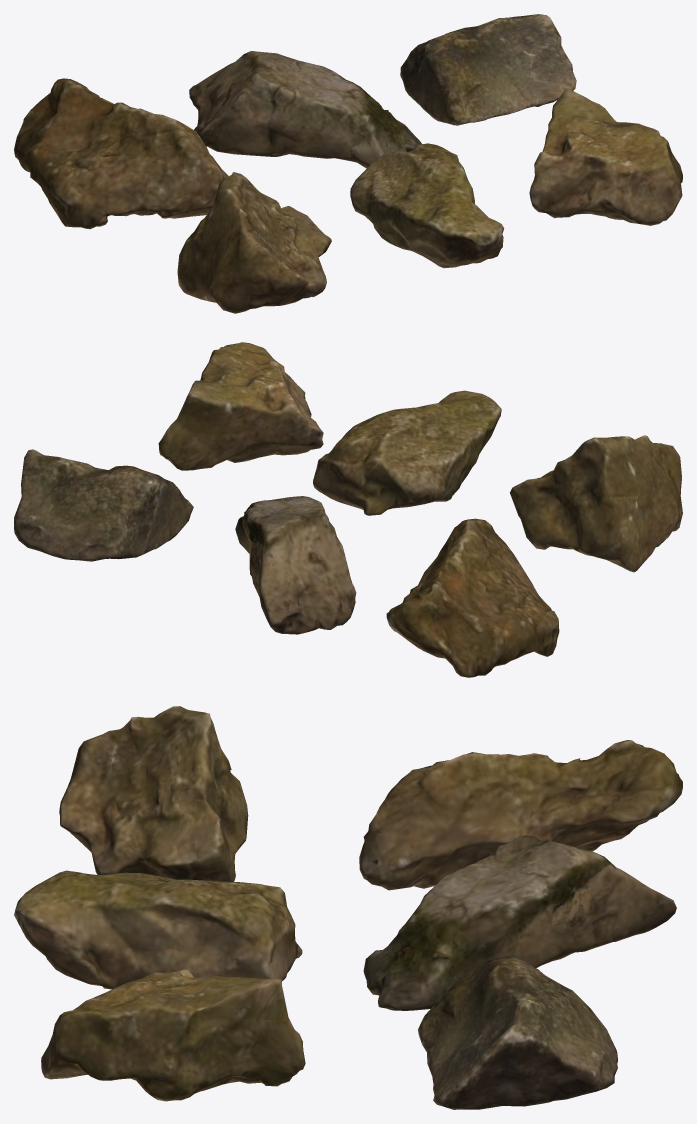
The model's file is rock_moss_set_01.glb.
3 renders of one model, top to bottom at view 1: azimuth 30°, elevation 25°; view 2: azimuth 150°, elevation 25°; view 3: azimuth 270°, elevation 25°, orthographic. The views are drawn at different scales.
Parts seen in each view (by area): view 1: rock_moss_set_01_rock01, rock_moss_set_01_rock02, rock_moss_set_01_rock06, rock_moss_set_01_rock04, rock_moss_set_01_rock03, rock_moss_set_01_rock05; view 2: rock_moss_set_01_rock04, rock_moss_set_01_rock01, rock_moss_set_01_rock05, rock_moss_set_01_rock03, rock_moss_set_01_rock06, rock_moss_set_01_rock02; view 3: rock_moss_set_01_rock01, rock_moss_set_01_rock02, rock_moss_set_01_rock05, rock_moss_set_01_rock04, rock_moss_set_01_rock06, rock_moss_set_01_rock03.
Part boxes in pixels (x1,y1,x2,y2): rock_moss_set_01_rock01: [14, 78, 228, 229]; rock_moss_set_01_rock02: [189, 51, 421, 168]; rock_moss_set_01_rock06: [529, 89, 682, 225]; rock_moss_set_01_rock04: [177, 172, 331, 313]; rock_moss_set_01_rock03: [400, 14, 576, 125]; rock_moss_set_01_rock05: [350, 143, 504, 268]; rock_moss_set_01_rock04: [510, 435, 682, 572]; rock_moss_set_01_rock01: [386, 518, 559, 677]; rock_moss_set_01_rock05: [313, 390, 501, 515]; rock_moss_set_01_rock03: [14, 449, 193, 561]; rock_moss_set_01_rock06: [158, 342, 323, 470]; rock_moss_set_01_rock02: [235, 496, 356, 634]; rock_moss_set_01_rock01: [359, 740, 682, 890]; rock_moss_set_01_rock02: [363, 835, 676, 1010]; rock_moss_set_01_rock05: [14, 870, 302, 989]; rock_moss_set_01_rock04: [59, 706, 248, 881]; rock_moss_set_01_rock06: [41, 969, 305, 1101]; rock_moss_set_01_rock03: [418, 955, 617, 1109].
Size of the model in its own units: 8 by 1.76 by 6.94.
Materials: 1 (1 with a texture image).
